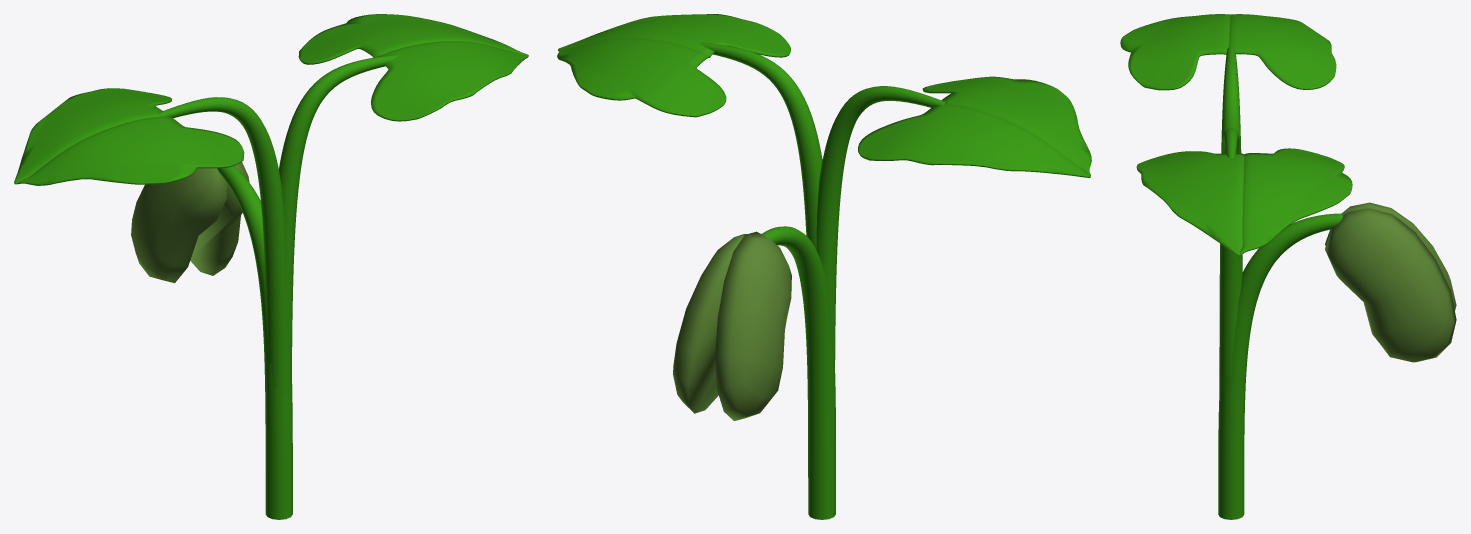
File: LV3_KidneyBeen.obj
3 renders of one model, left to right at view 1: azimuth 30°, elevation 25°; view 2: azimuth 150°, elevation 25°; view 3: azimuth 270°, elevation 25°, orthographic. The views are drawn at different scales.
Parts seen in each view (by area): view 1: Level3; view 2: Level3; view 3: Level3.
Boxes of the visible parts, x1,y1,x2,y2 form: Level3: (14,14,528,519); Level3: (557,14,1091,519); Level3: (1120,14,1456,519).
Size of the model in its own units: 5.25 by 4.21 by 3.09.
